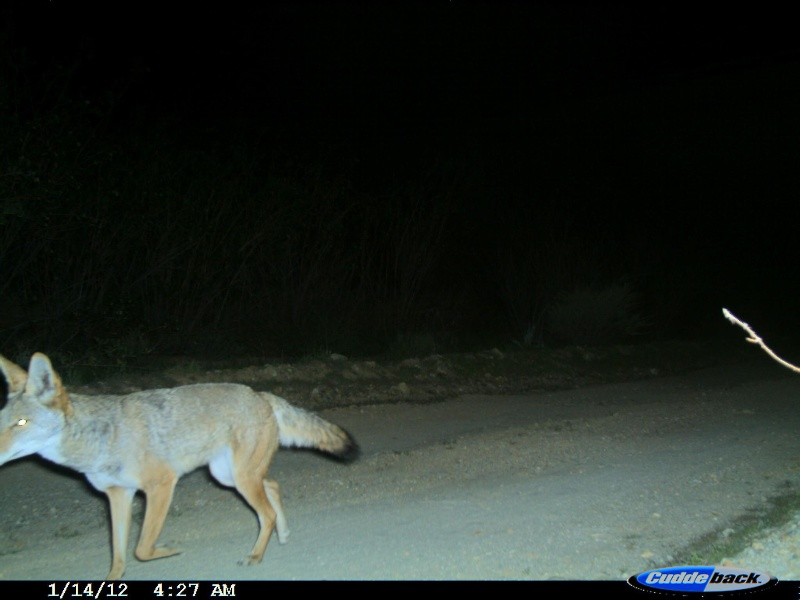coyote: (1, 347, 362, 578)
